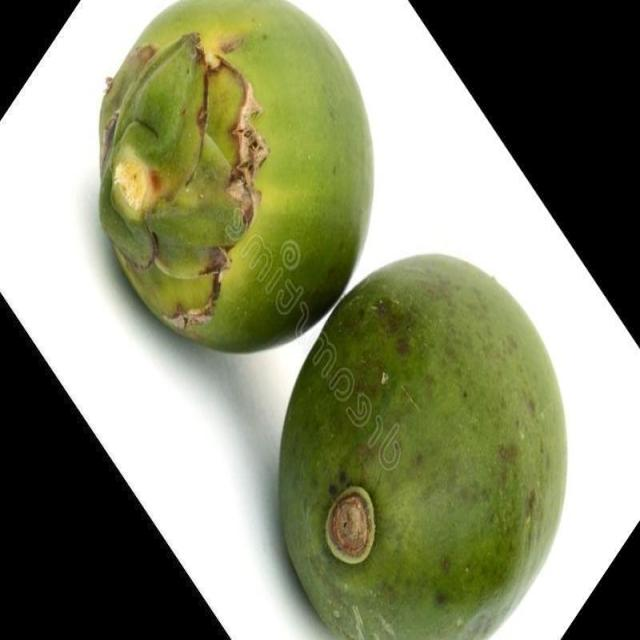good: (275, 254, 569, 639), (99, 0, 373, 355)
